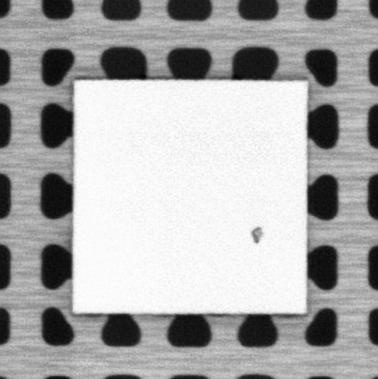DIE_INK: (250, 226, 264, 244)
